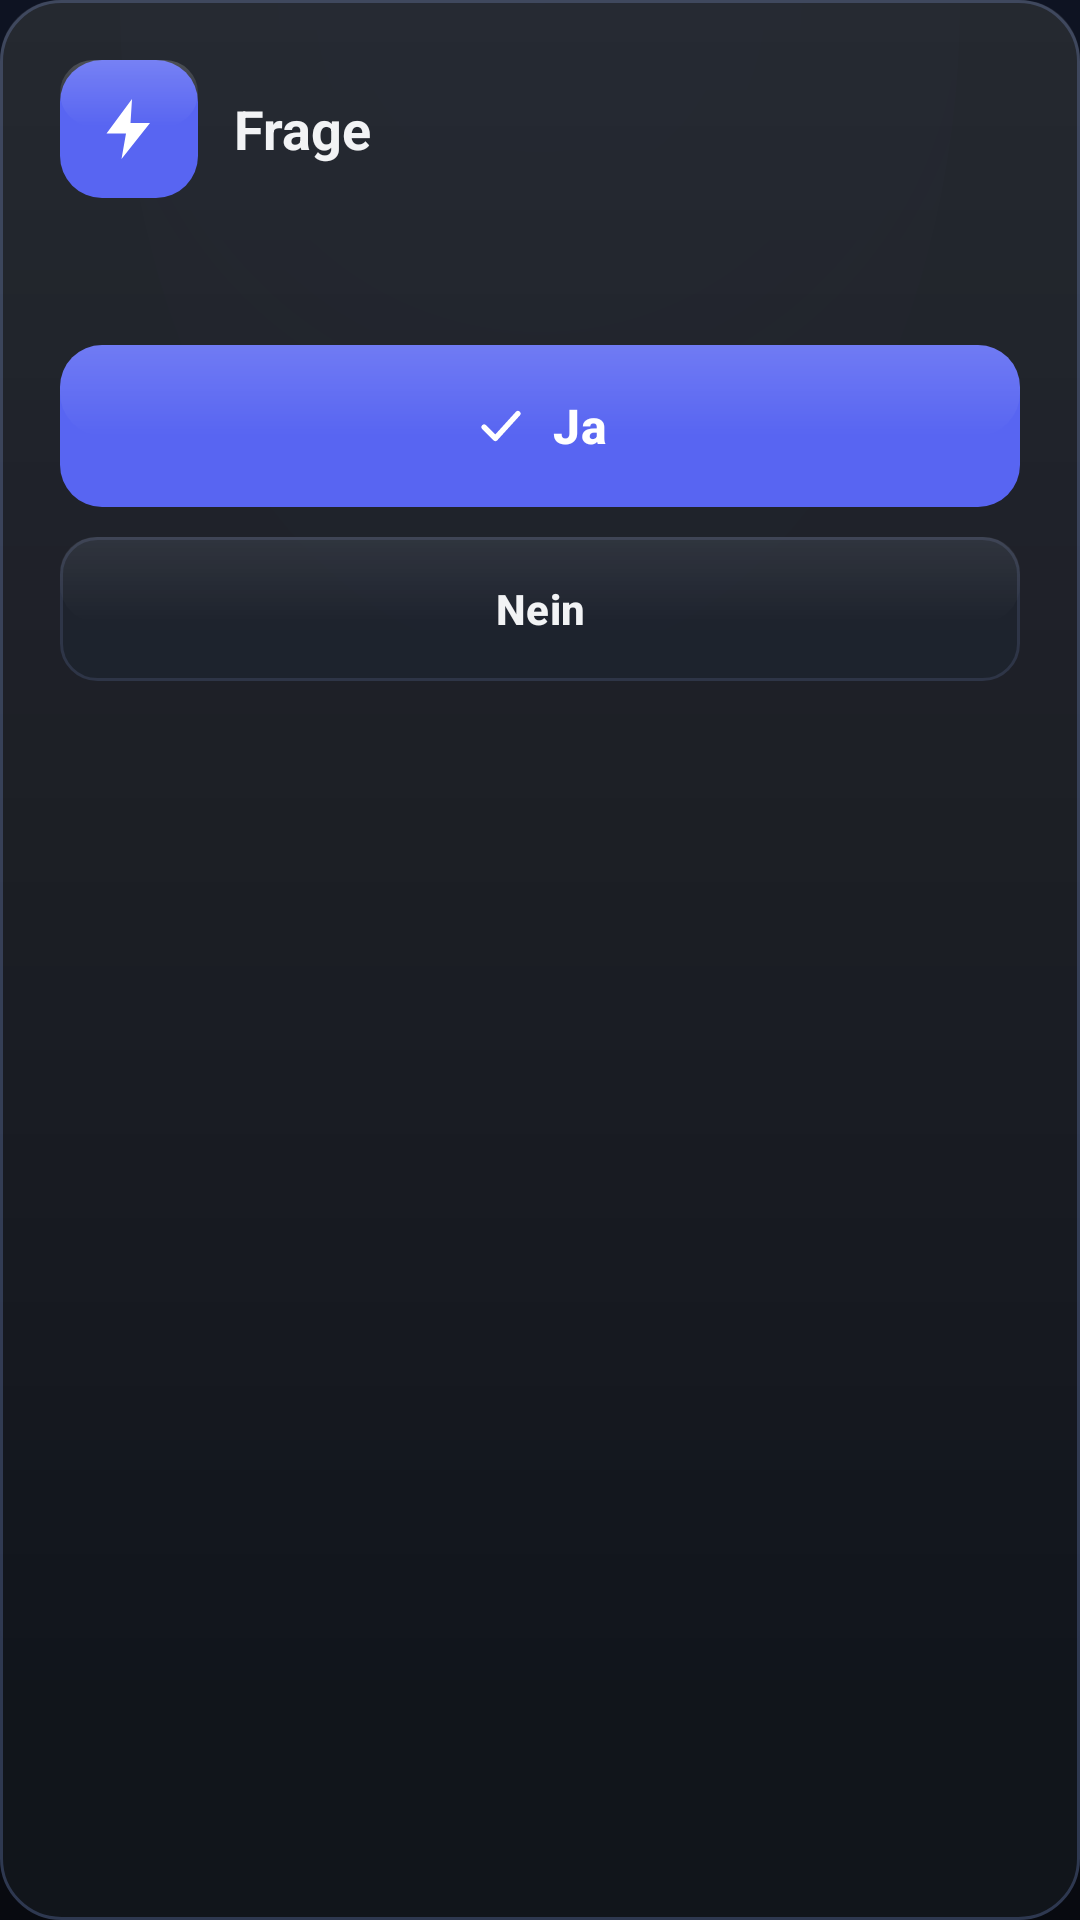

Screen size 1080 x 1920. Icon name, then its center in pixels as (x=x, y=y):
bolt: (x=128, y=129)
